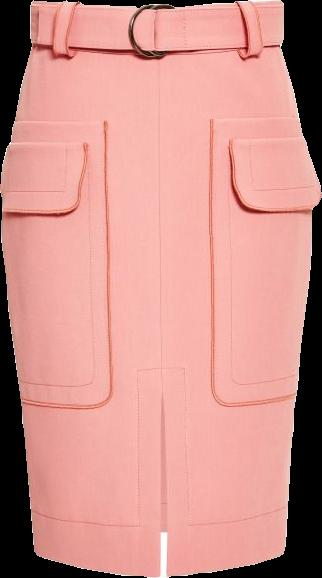Hemline: (32, 393, 288, 577)
Waistline: (29, 40, 281, 60), (26, 0, 284, 14)
